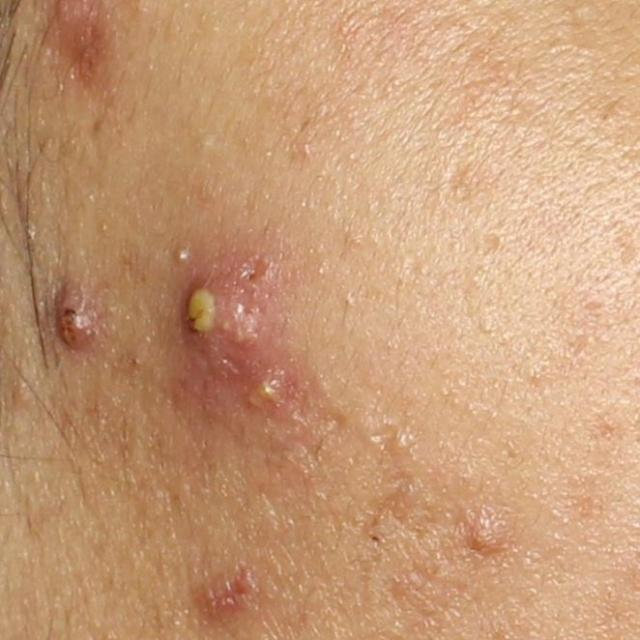blackhead: (370, 534, 380, 544)
